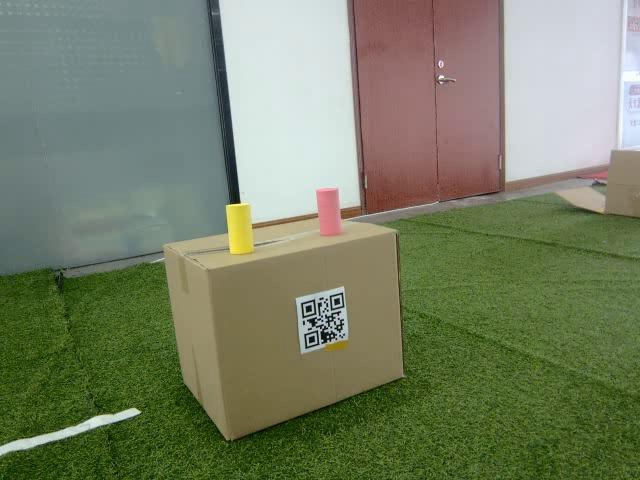red_cylinder: (316, 187, 342, 235)
yellow_cylinder: (225, 199, 255, 259)
